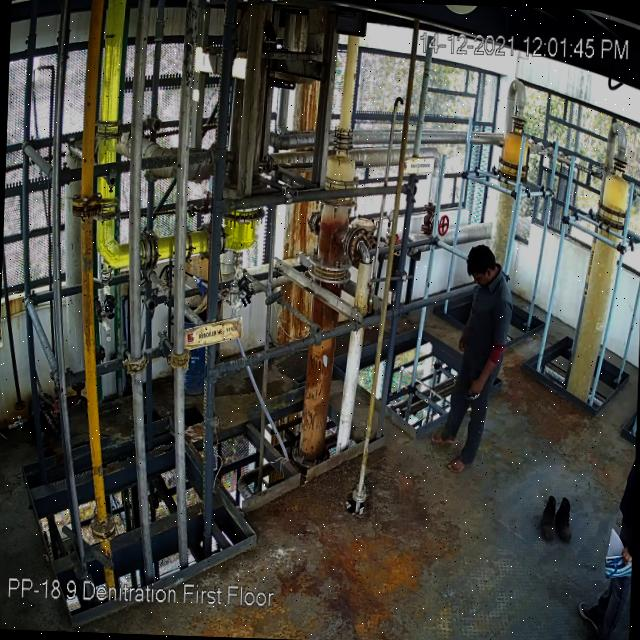boots: (538, 492, 562, 542), (556, 496, 574, 540)
no-boots: (446, 450, 468, 474)
